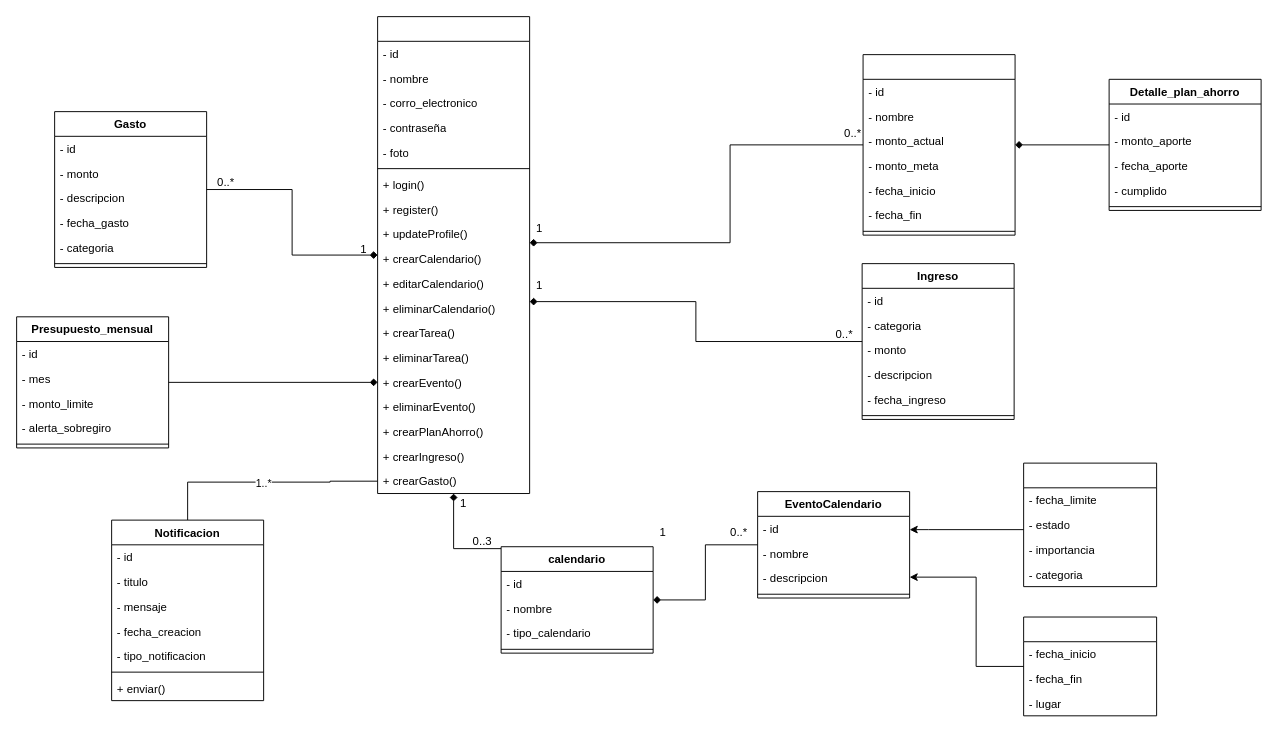
This 1278x735 diagram has some shape labels left out. Here are the shapes that lost their labels. From the top down, the box of each, then its label:
(862, 54, 1015, 235): Plan_ahorro
(377, 16, 530, 494): Usuario
(1023, 462, 1157, 587): Tarea
(1023, 616, 1157, 716): Evento
